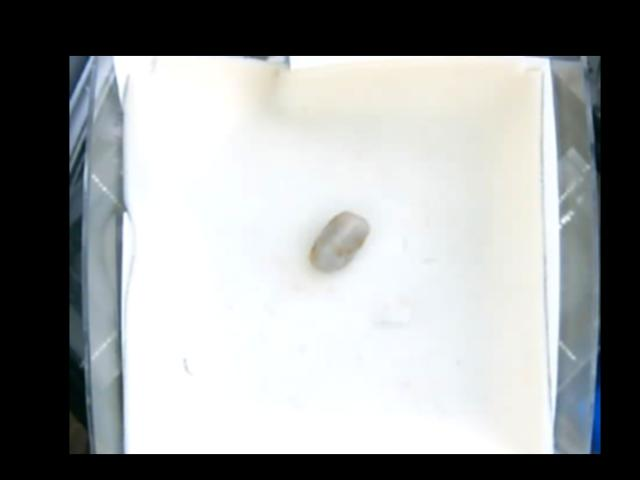Pebble: (307, 210, 369, 274)
